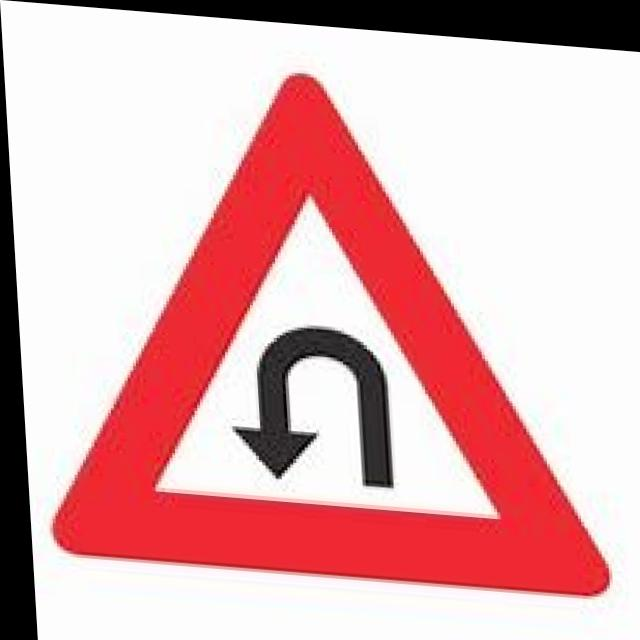LEFT_HAIR_PIN_BEND: (22, 51, 610, 591)
